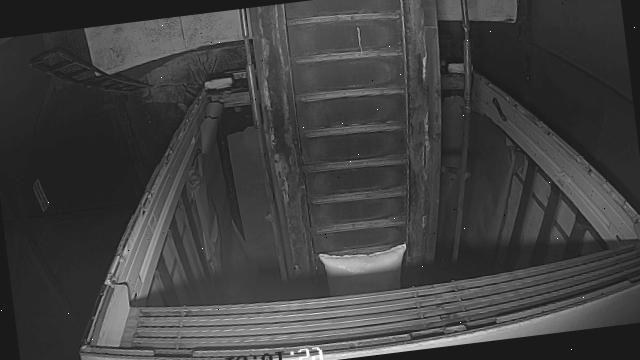bag: (316, 243, 411, 298)
